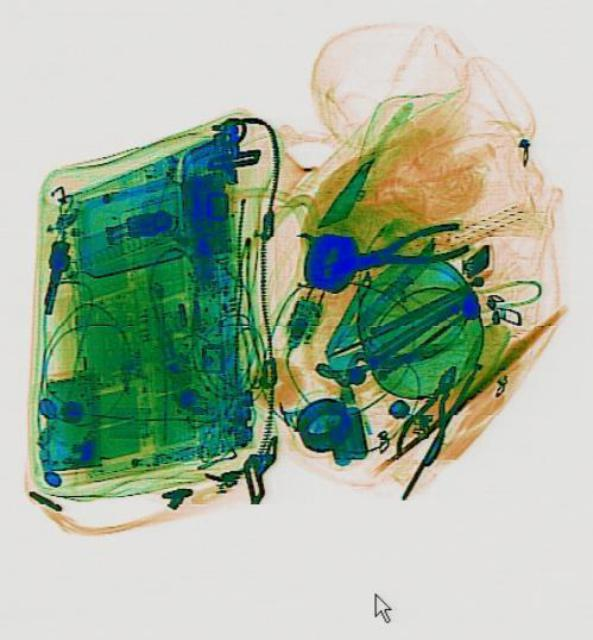Pliers: (388, 356, 473, 466), (340, 216, 470, 282)
